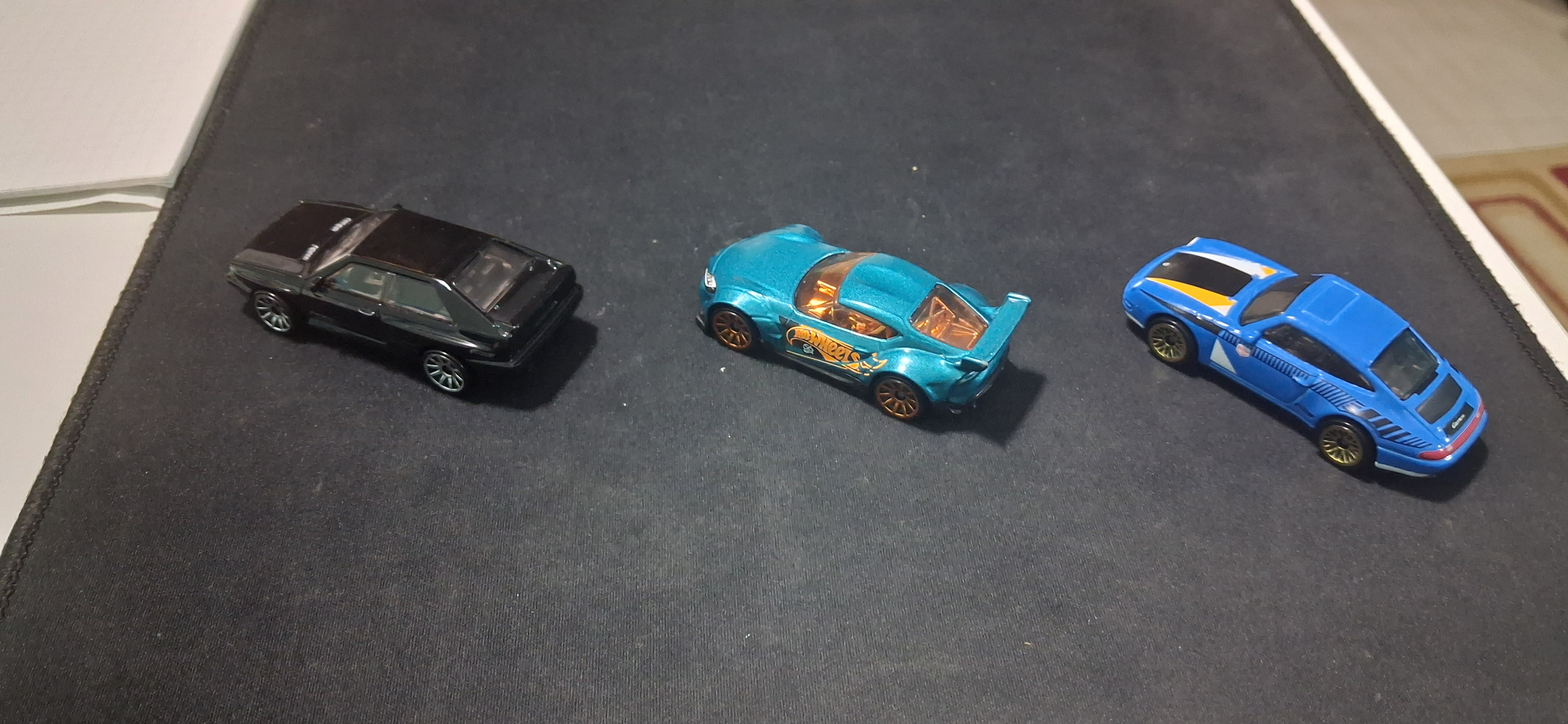Audi_Quattro: (204, 155, 616, 438)
Porsche_Carrera: (1099, 162, 1514, 532)
Toyota_GR_Supra: (669, 157, 1054, 447)
